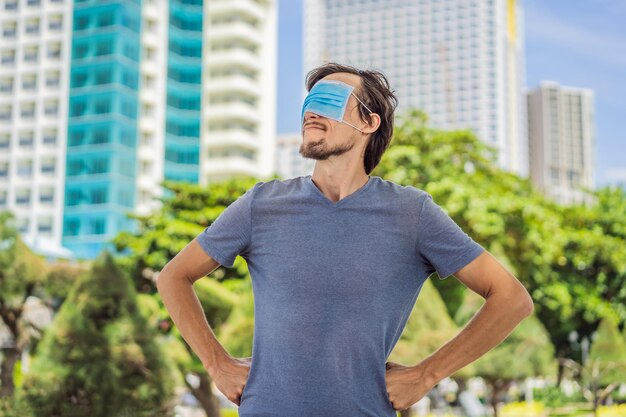mask_weared_incorrect: (298, 68, 374, 163)
